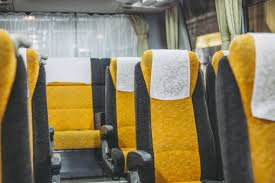seat: (137, 48, 214, 178)
